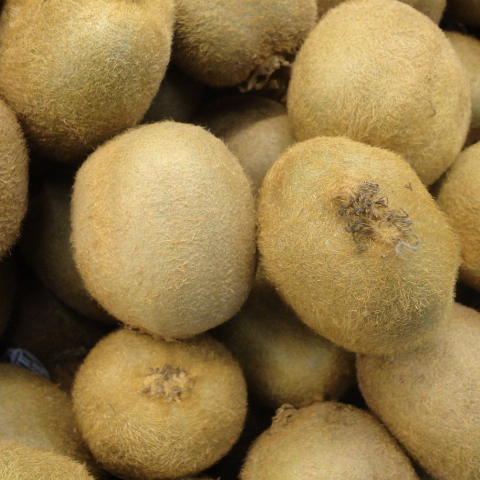kiwi: (49, 120, 280, 359), (244, 123, 464, 368), (280, 0, 478, 186), (66, 309, 250, 480)
